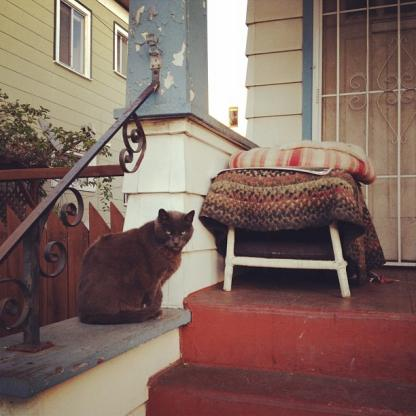Target: (71, 205, 196, 328)
